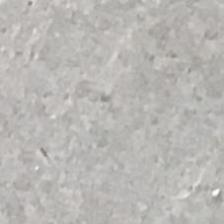Non_Crack: (34, 22, 224, 202)
